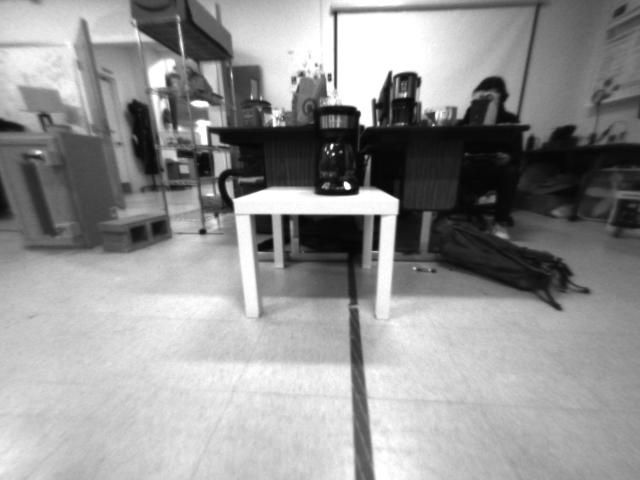coffee_pot: (307, 102, 368, 194)
